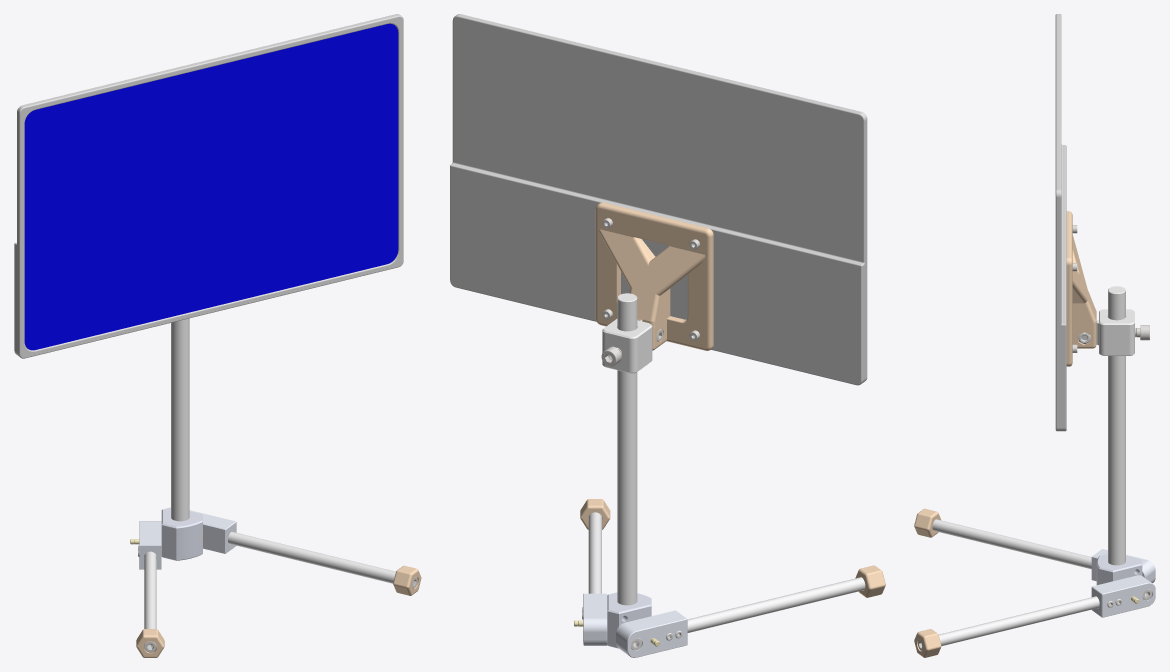
The model's file is Assemblage_support_écran_pc.glb.
3 views of the same model, side by side, from view 1: azimuth 30°, elevation 25°; view 2: azimuth 150°, elevation 25°; view 3: azimuth 270°, elevation 25° (orthographic). The views are drawn at different scales.
Visible parts, largest first — view 1: Deuxième écran V3-1, Support écran pc - Tige Ø15 mm-1, Support écran pc - Tige Ø10 mm-1, Support écran pc - Socle-1, Support écran pc - Pied-1, Support écran pc - Tige Ø10 mm-2, Support écran pc - Pied-2, Support écran pc - Patin-2, Support écran pc - Patin-1; view 2: Deuxième écran V3-1, Support écran pc - Adaptateur VESA 75 mm-1, Support écran pc - Tige Ø15 mm-1, Support écran pc - Tige Ø10 mm-2, Support écran pc - Pied-2, Support écran pc - Bague de fixation-1, Support écran pc - Pied-1, Support écran pc - Socle-1, Support écran pc - Tige Ø10 mm-1, Support écran pc - Patin-1; view 3: Deuxième écran V3-1, Support écran pc - Tige Ø15 mm-1, Support écran pc - Adaptateur VESA 75 mm-1, Support écran pc - Tige Ø10 mm-1, Support écran pc - Tige Ø10 mm-2, Support écran pc - Pied-1, Support écran pc - Bague de fixation-1, Support écran pc - Socle-1, Support écran pc - Patin-2, Support écran pc - Patin-1, Support écran pc - Pied-2.
Boxes of the visible parts, x1,y1,x2,y2 form: Deuxième écran V3-1: (14,14,403,358); Support écran pc - Tige Ø15 mm-1: (171,318,189,521); Support écran pc - Tige Ø10 mm-1: (228,531,395,583); Support écran pc - Socle-1: (161,507,202,560); Support écran pc - Pied-1: (189,510,236,553); Support écran pc - Tige Ø10 mm-2: (144,551,156,628); Support écran pc - Pied-2: (139,521,161,569); Support écran pc - Patin-2: (393,565,421,595); Support écran pc - Patin-1: (136,629,164,657); Deuxième écran V3-1: (450,14,867,385); Support écran pc - Adaptateur VESA 75 mm-1: (595,202,713,350); Support écran pc - Tige Ø15 mm-1: (617,293,637,605); Support écran pc - Tige Ø10 mm-2: (687,577,865,632); Support écran pc - Pied-2: (616,610,687,657); Support écran pc - Bague de fixation-1: (602,319,652,373); Support écran pc - Pied-1: (583,593,607,645); Support écran pc - Socle-1: (607,592,651,648); Support écran pc - Tige Ø10 mm-1: (588,512,601,593); Support écran pc - Patin-1: (855,565,885,597); Deuxième écran V3-1: (1055,14,1066,431); Support écran pc - Tige Ø15 mm-1: (1108,286,1125,565); Support écran pc - Adaptateur VESA 75 mm-1: (1066,211,1096,366); Support écran pc - Tige Ø10 mm-1: (938,596,1099,646); Support écran pc - Tige Ø10 mm-2: (932,519,1091,569); Support écran pc - Pied-1: (1091,575,1155,617); Support écran pc - Bague de fixation-1: (1096,309,1134,355); Support écran pc - Socle-1: (1096,554,1142,584); Support écran pc - Patin-2: (914,629,941,657); Support écran pc - Patin-1: (914,508,941,537); Support écran pc - Pied-2: (1091,549,1155,582).
Size of the model in its own units: 0.355 by 0.4536 by 0.2014.
